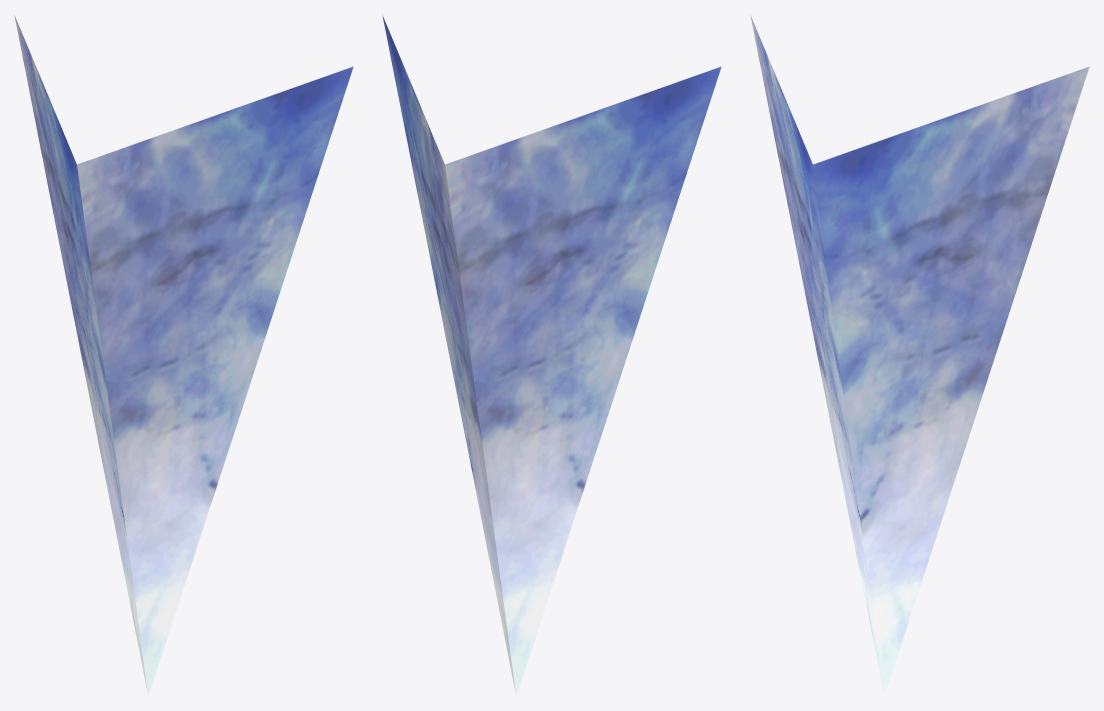
3 renders of one model, left to right at view 1: azimuth 30°, elevation 25°; view 2: azimuth 150°, elevation 25°; view 3: azimuth 270°, elevation 25°, orthographic.
Parts seen in each view (by area): view 1: Object13; view 2: Object13; view 3: Object13.
Part boxes in pixels (bbox=[...]): Object13: bbox=[14, 15, 353, 696]; Object13: bbox=[382, 15, 721, 696]; Object13: bbox=[750, 15, 1089, 696].
Size of the model in its own units: 1098 by 2095 by 1048.
1 material, 1 textured.
